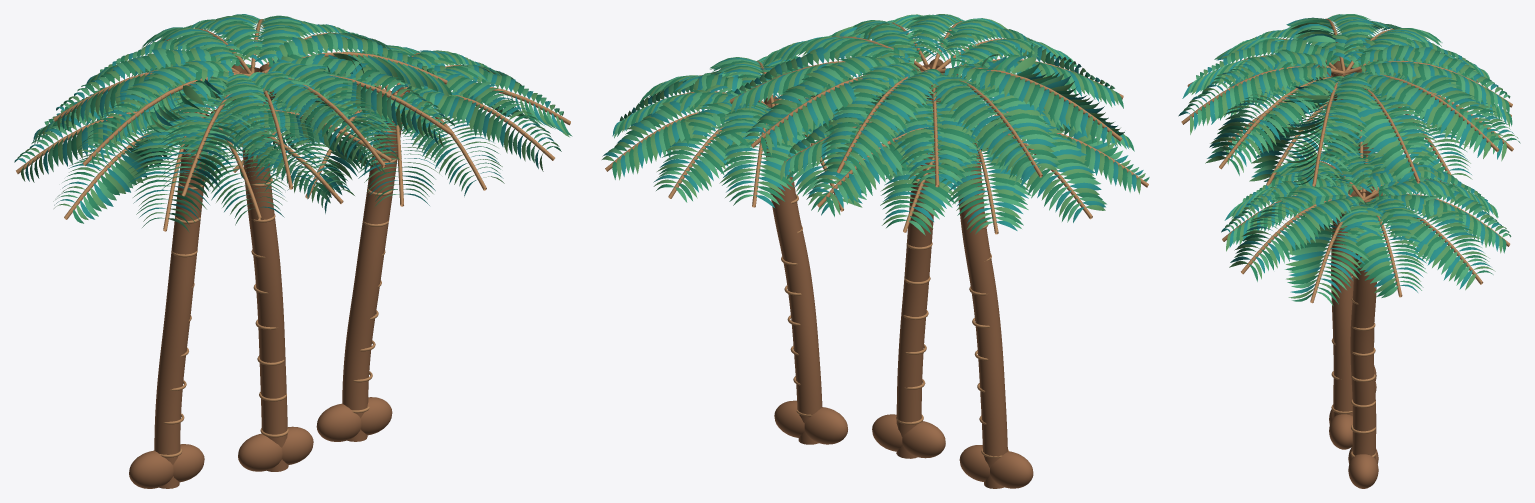
Rendered from palm.glb.
The picture shows the model from 3 angles, left to right: view 1: azimuth 30°, elevation 25°; view 2: azimuth 150°, elevation 25°; view 3: azimuth 270°, elevation 25°; orthographic projection. The views are drawn at different scales.
Visible parts, largest first — view 1: PalmCluster_Palm_trunk_warm, PalmCluster_Palm_leaf_teal_shade, PalmCluster_Palm_leaf_emerald, PalmCluster_Palm_leaf_olive_edge, PalmCluster_Palm_leaf_sunlit, PalmCluster_Palm_trunk_ridges; view 2: PalmCluster_Palm_trunk_warm, PalmCluster_Palm_leaf_emerald, PalmCluster_Palm_leaf_sunlit, PalmCluster_Palm_leaf_teal_shade, PalmCluster_Palm_leaf_olive_edge, PalmCluster_Palm_trunk_ridges; view 3: PalmCluster_Palm_leaf_olive_edge, PalmCluster_Palm_leaf_emerald, PalmCluster_Palm_leaf_teal_shade, PalmCluster_Palm_leaf_sunlit, PalmCluster_Palm_trunk_warm, PalmCluster_Palm_trunk_ridges.
Boxes of the visible parts, x1,y1,x2,y2 form: PalmCluster_Palm_trunk_warm: (129, 67, 402, 488); PalmCluster_Palm_leaf_teal_shade: (14, 14, 564, 220); PalmCluster_Palm_leaf_emerald: (20, 15, 572, 227); PalmCluster_Palm_leaf_olive_edge: (21, 16, 569, 222); PalmCluster_Palm_leaf_sunlit: (17, 14, 563, 232); PalmCluster_Palm_trunk_ridges: (16, 19, 570, 457); PalmCluster_Palm_trunk_warm: (765, 64, 1033, 488); PalmCluster_Palm_leaf_emerald: (612, 14, 1149, 233); PalmCluster_Palm_leaf_sunlit: (608, 14, 1138, 235); PalmCluster_Palm_leaf_teal_shade: (602, 14, 1143, 230); PalmCluster_Palm_leaf_olive_edge: (602, 14, 1145, 229); PalmCluster_Palm_trunk_ridges: (605, 21, 1148, 457); PalmCluster_Palm_leaf_olive_edge: (1189, 14, 1518, 298); PalmCluster_Palm_leaf_emerald: (1187, 14, 1520, 304); PalmCluster_Palm_leaf_teal_shade: (1178, 14, 1513, 293); PalmCluster_Palm_leaf_sunlit: (1183, 14, 1511, 305); PalmCluster_Palm_trunk_warm: (1329, 67, 1378, 488); PalmCluster_Palm_trunk_ridges: (1181, 18, 1513, 457).
Bounding box in the file's own units: 7.72 × 6.01 × 4.97.
